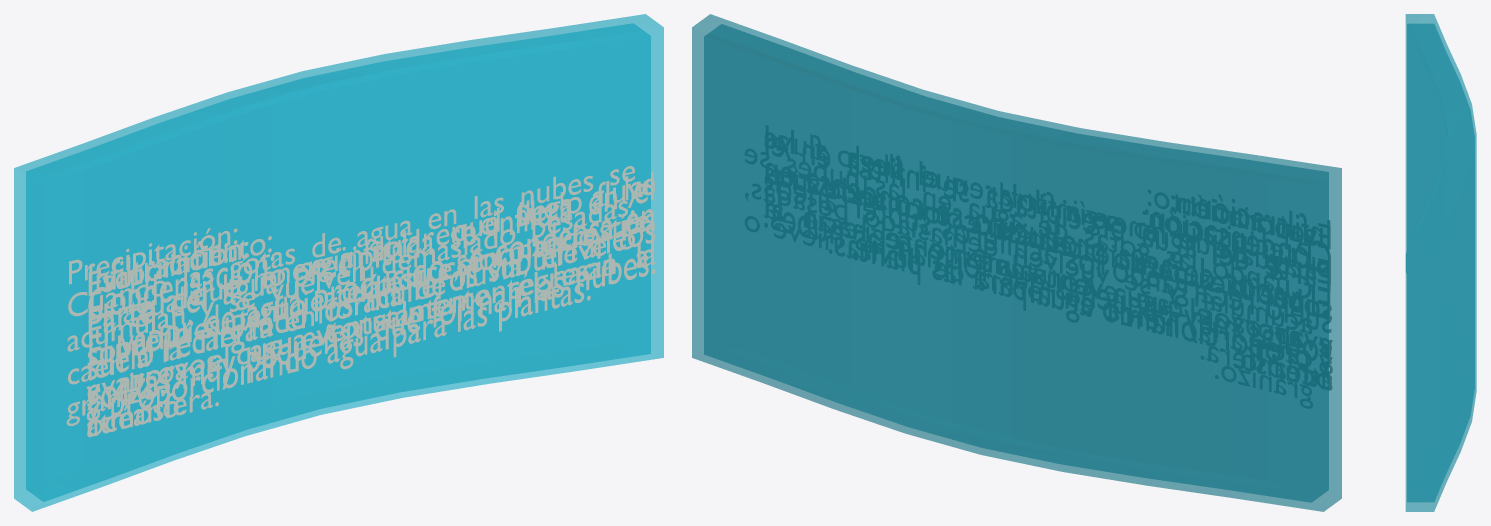
Rendered from condensacion.glb.
3 renders of one model, left to right at view 1: azimuth 30°, elevation 25°; view 2: azimuth 150°, elevation 25°; view 3: azimuth 270°, elevation 25°, orthographic. The views are drawn at different scales.
Visible parts, largest first — view 1: Cube, infiltracion, Escurrimiento, Evaporacion, Condensacion, Precipitacion; view 2: Cube, Precipitacion, infiltracion, Escurrimiento, Condensacion, Evaporacion; view 3: Cube.
Boxes of the visible parts, x1,y1,x2,y2 form: Cube: (14,14,663,511); infiltracion: (87,171,655,431); Escurrimiento: (86,178,654,436); Evaporacion: (87,176,655,437); Condensacion: (87,209,655,420); Precipitacion: (66,166,634,425); Cube: (692,14,1341,511); Precipitacion: (745,149,1312,407); infiltracion: (766,125,1332,384); Escurrimiento: (765,134,1332,387); Condensacion: (765,163,1332,374); Evaporacion: (766,130,1331,390); Cube: (1405,14,1476,511).
Bounding box in the file's own units: 2 × 1 × 0.3736.
